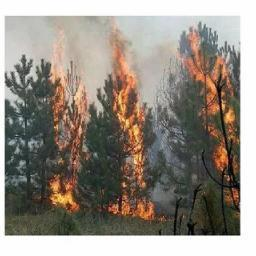Low smoke: (52, 18, 78, 49), (85, 17, 123, 38)
Medium fire: (101, 33, 158, 220), (191, 32, 238, 218), (45, 49, 89, 213)
